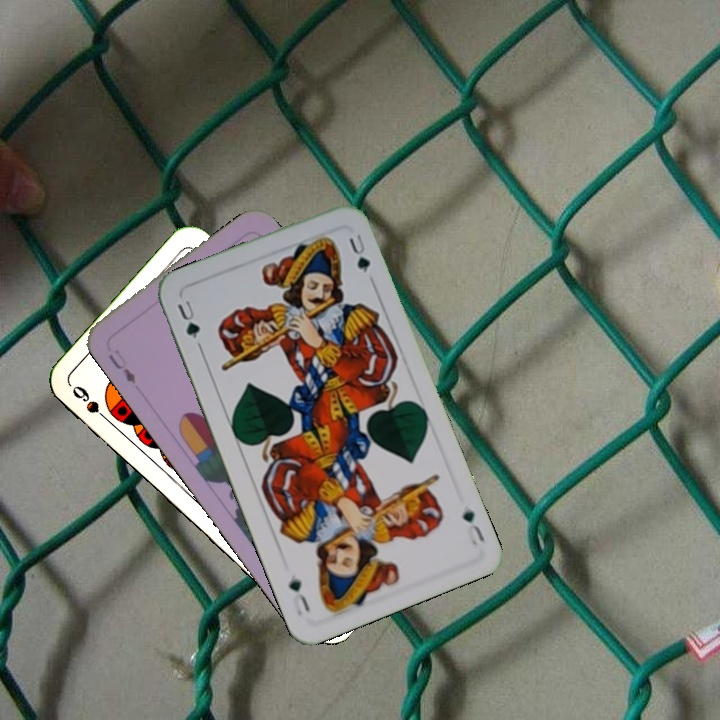EU: (104, 345, 139, 387)
GU: (173, 296, 203, 342), (458, 504, 488, 549)
S9: (68, 381, 115, 427)
